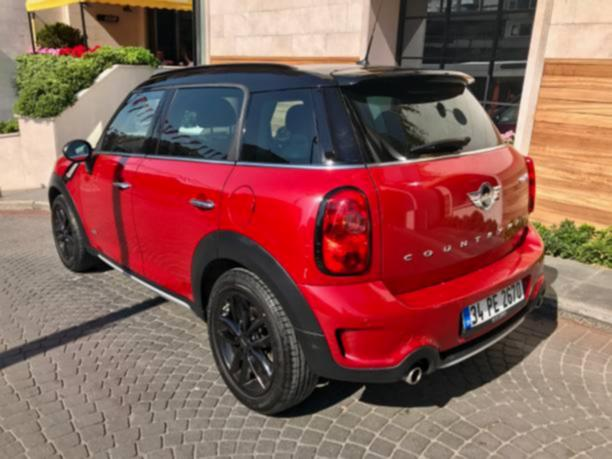mini: (459, 176, 510, 220)
